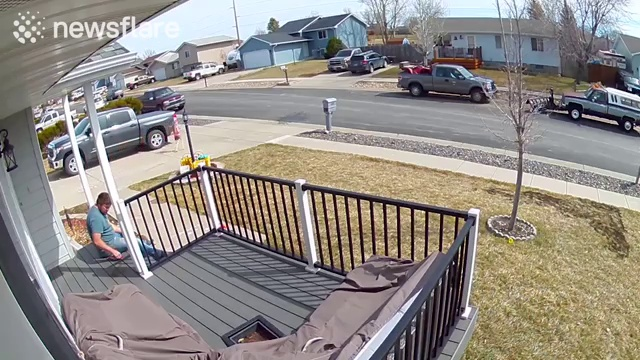face: (100, 202, 111, 214)
